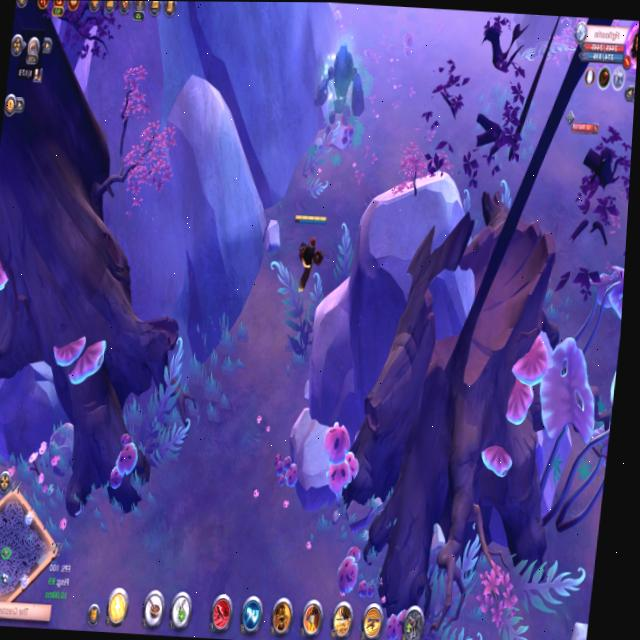ore: (302, 35, 376, 151)
red: (282, 201, 336, 299)
